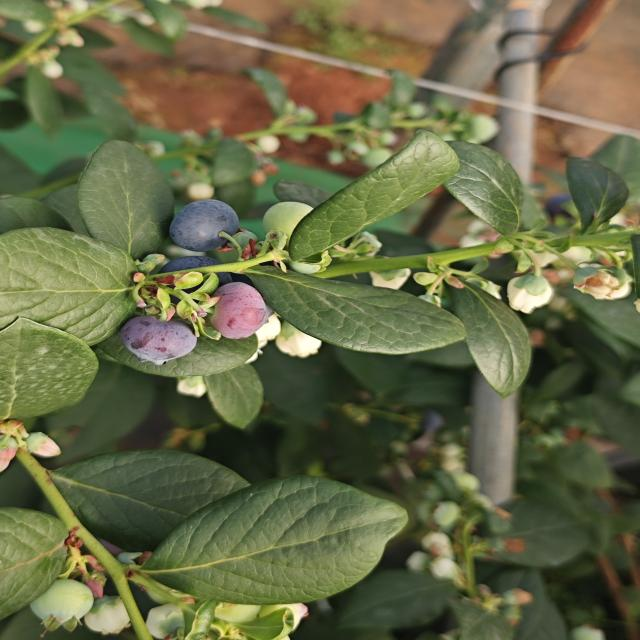ripe: (117, 313, 199, 367), (166, 198, 242, 254), (140, 248, 234, 291)
